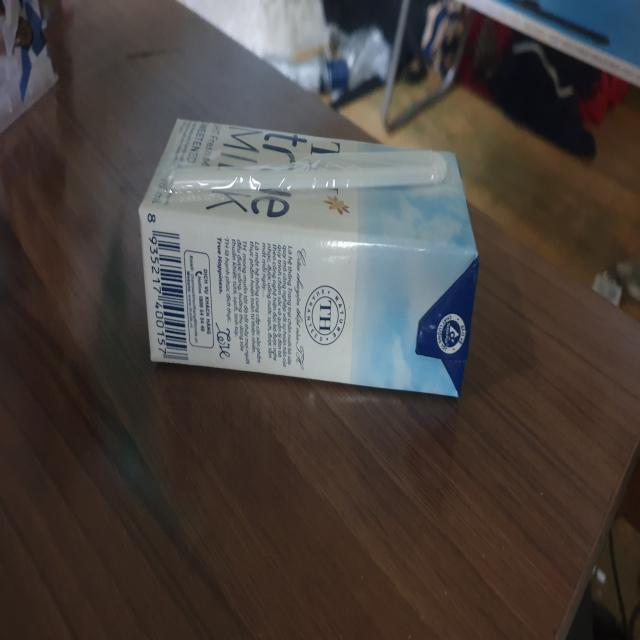TH: (139, 118, 480, 402)
